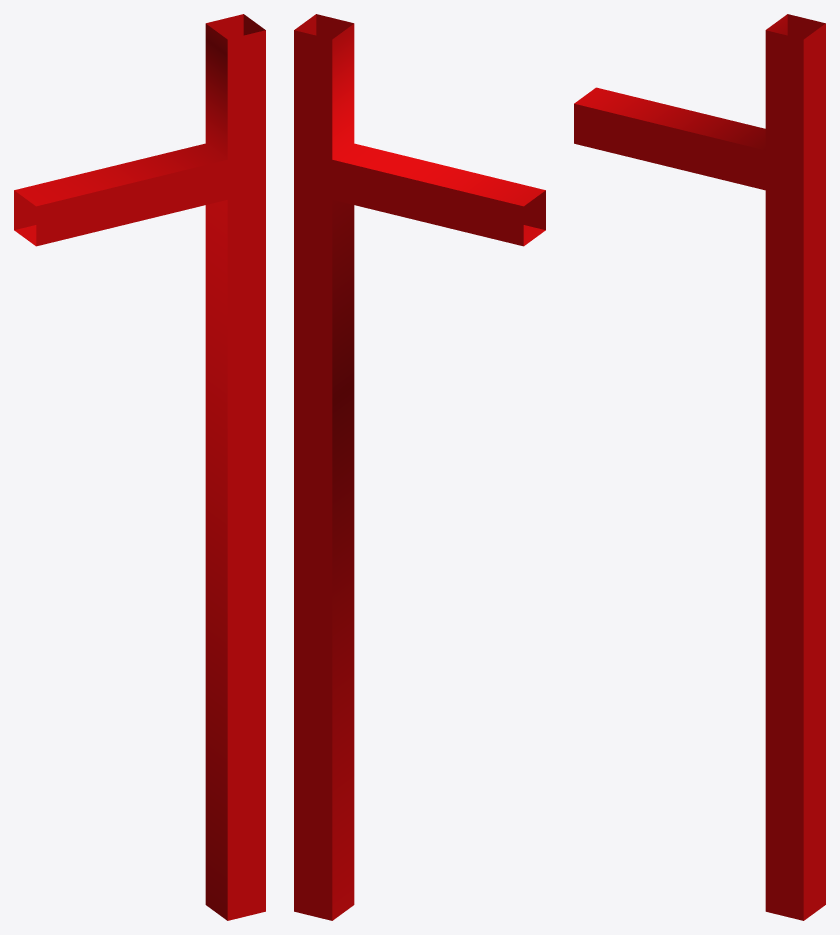
Rendered from Railing Pool2.fbx.
The picture shows the model from 3 angles, left to right: view 1: azimuth 30°, elevation 25°; view 2: azimuth 150°, elevation 25°; view 3: azimuth 330°, elevation 25°; orthographic projection.
Visible parts, largest first — view 1: Railing Pool2; view 2: Railing Pool2; view 3: Railing Pool2.
Part boxes in pixels (left/top/right/bottom): Railing Pool2: left=14, top=14, right=265, bottom=920; Railing Pool2: left=294, top=14, right=545, bottom=920; Railing Pool2: left=574, top=14, right=825, bottom=920.
Size of the model in its own units: 30 by 110 by 5.
